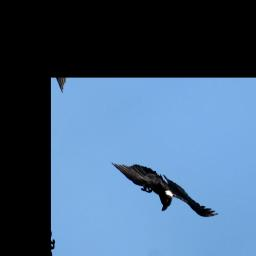Crow: (110, 132, 220, 245)
